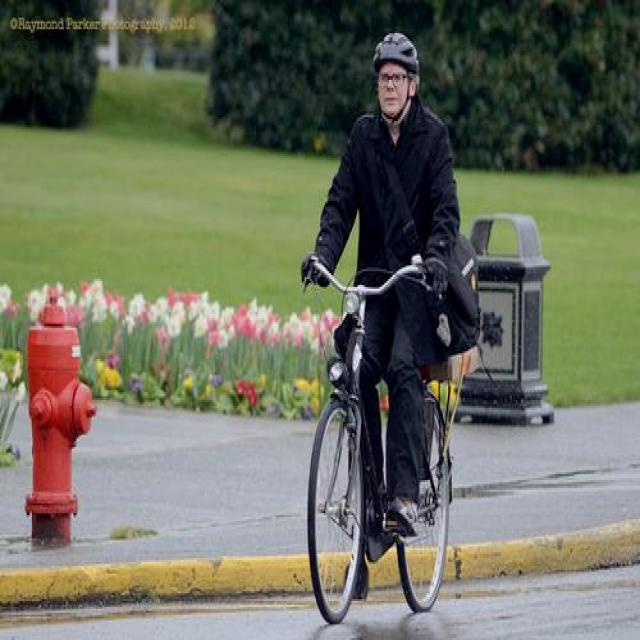bikerider: (291, 14, 490, 626)
